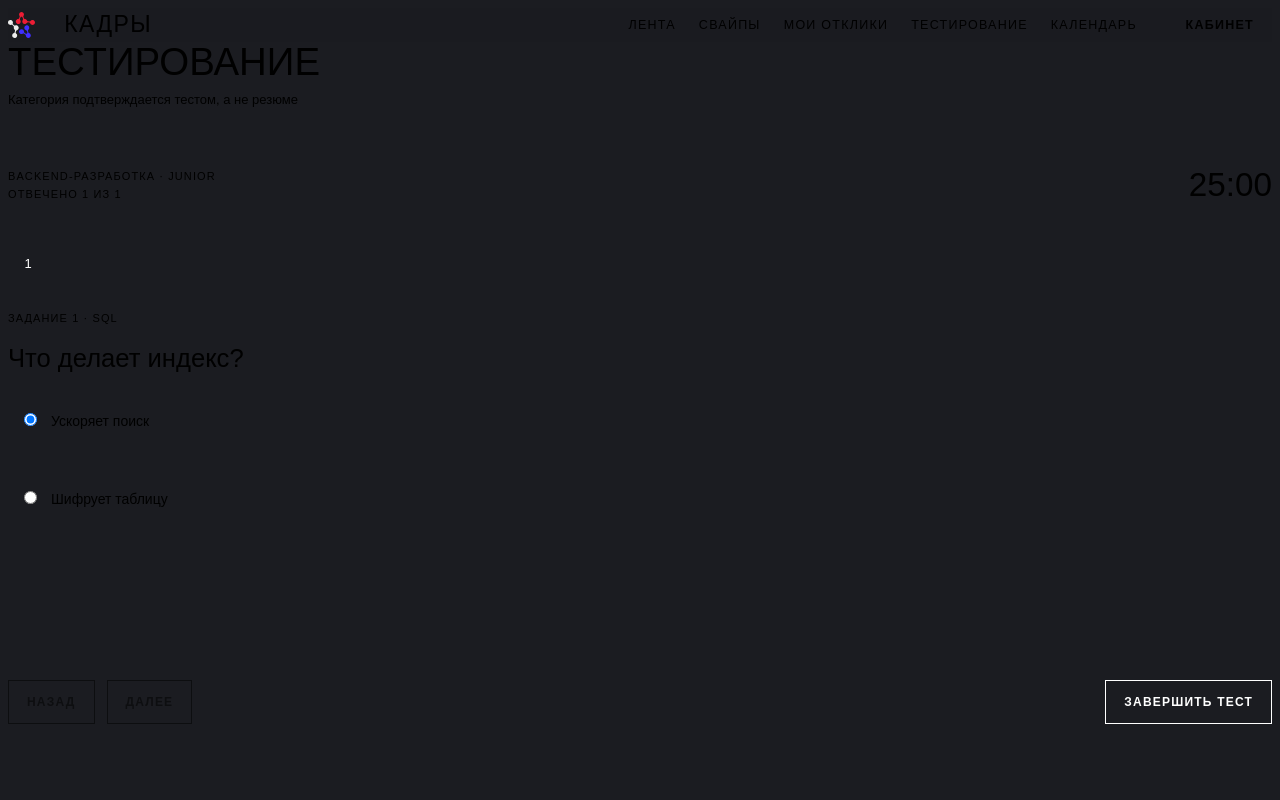
Test: result of a finished attempt › tells that the solution is still being checked when the code runner is down
The width and height of the screenshot is (1280, 800).
Click the button "Завершить тест". click: point(1189, 702)
box: [1105,680,1272,724]
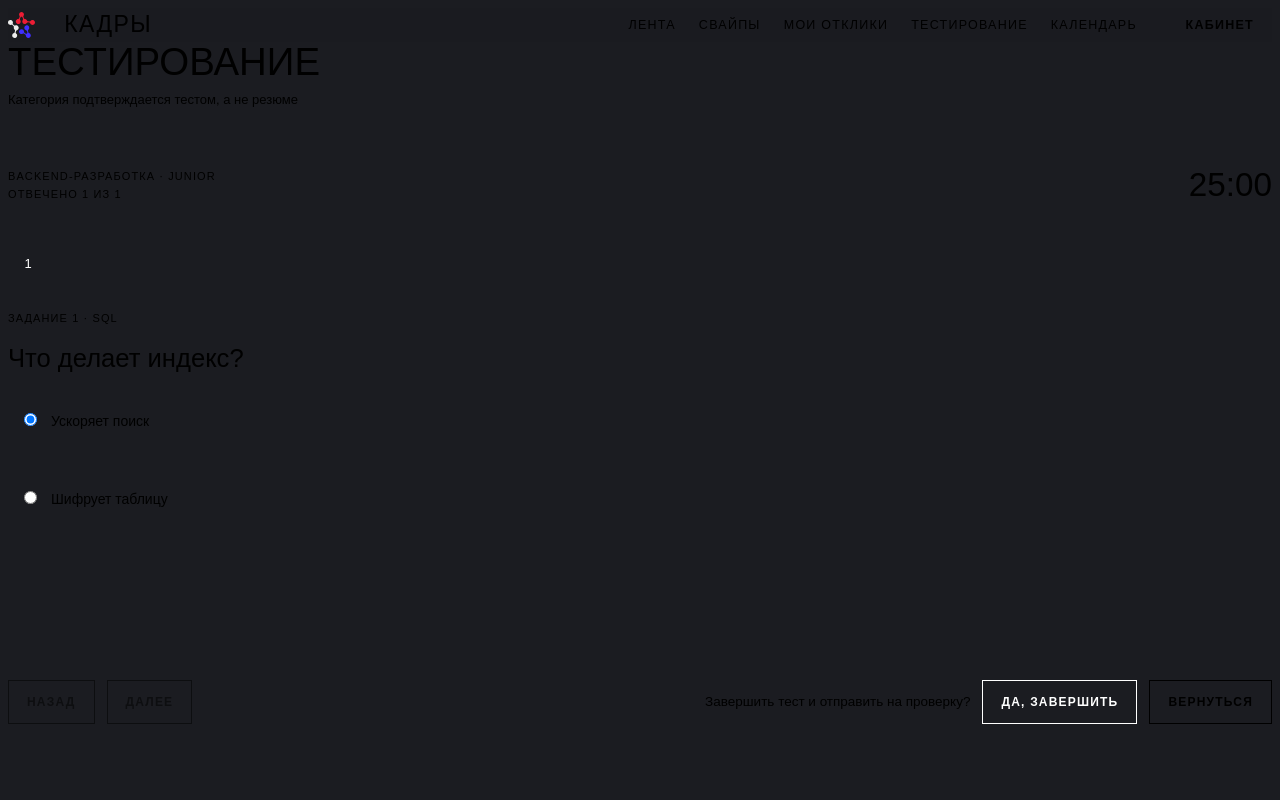
Click the button "Да, завершить". click: point(1060, 702)
box: [982,680,1138,724]
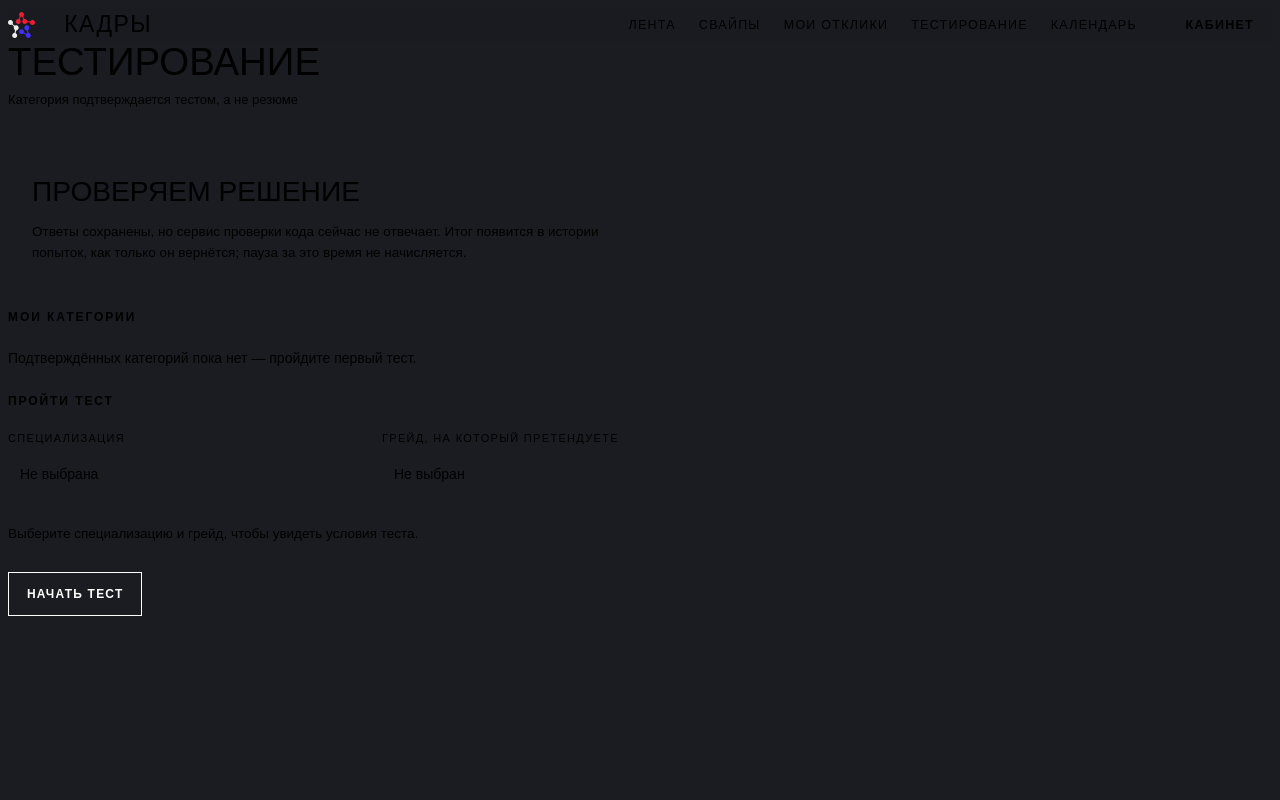
Expected: the text "Проверяем решение" is shown, [32,176,360,208]
Expected: the text "пауза за это время не начисляется" is shown, [32,224,598,260]
